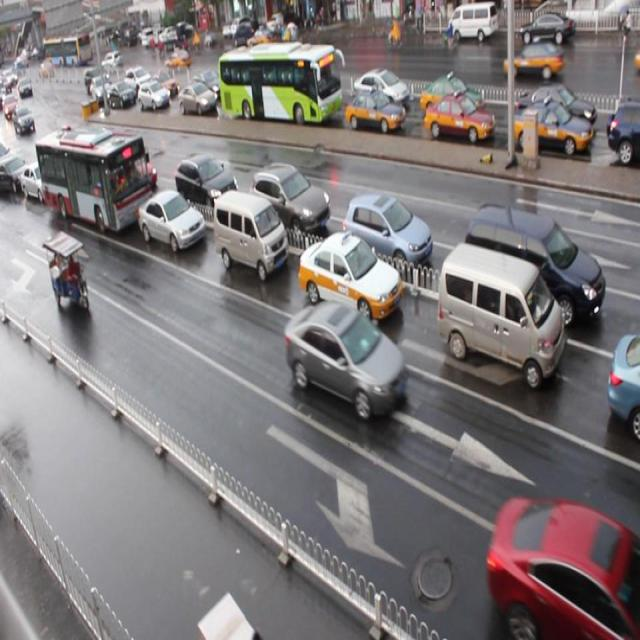car: (488, 492, 640, 640), (283, 300, 408, 422), (298, 228, 401, 322), (342, 192, 433, 276), (250, 162, 330, 234), (513, 98, 592, 156), (137, 186, 205, 251), (175, 153, 238, 210), (607, 331, 640, 437), (517, 86, 594, 130), (424, 92, 494, 140), (344, 85, 404, 133), (425, 74, 489, 119), (353, 68, 409, 109), (607, 98, 640, 160), (112, 145, 152, 187), (21, 158, 58, 202), (178, 81, 219, 117), (267, 68, 305, 103), (61, 128, 93, 166), (1, 153, 30, 193), (139, 78, 170, 112), (191, 70, 226, 99), (150, 69, 181, 97), (126, 64, 153, 91), (106, 80, 134, 106)
truck: (438, 240, 564, 388), (464, 200, 604, 329), (212, 187, 288, 279)
van: (35, 126, 154, 234), (216, 43, 340, 123)
